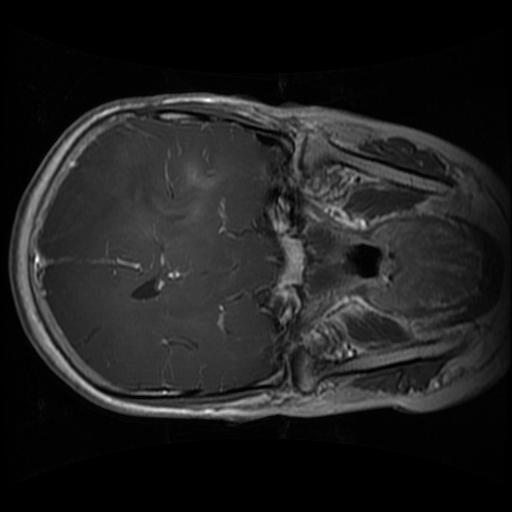glioma: (137, 160, 221, 226)
